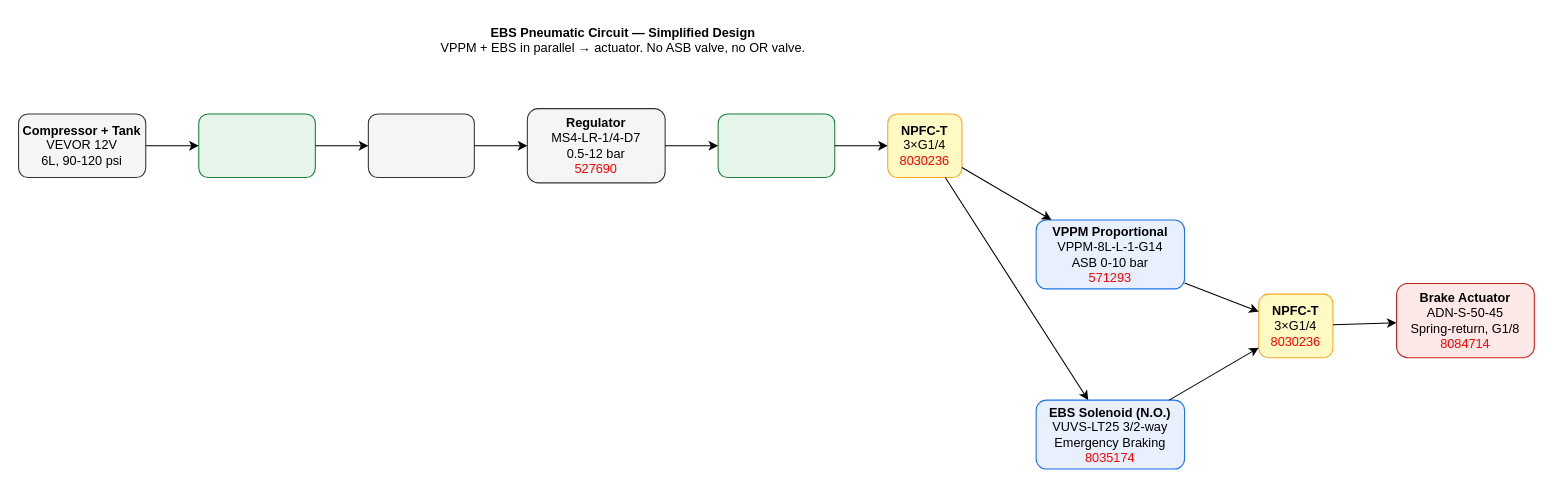
Some shapes in this 1553 by 488 pixel diagram are drawn without their labels. The shapes that lost their labels are listed below. From the top down, each one's centre as x and y in pixels, then its label:
At pixel 256 145: "Pressure Sensor SDE5 (tank side) 567465".
At pixel 420 145: "Ball Valve (manual isolation)".
At pixel 776 145: "Pressure Sensor SDE5 (regulated) 567465".
